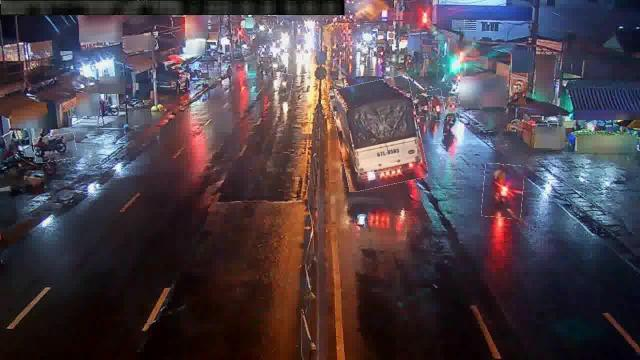Bike: (482, 164, 524, 218), (34, 134, 76, 162), (427, 89, 445, 121), (444, 103, 460, 135), (414, 94, 432, 118), (279, 74, 293, 96)
Truck: (334, 78, 424, 188)
